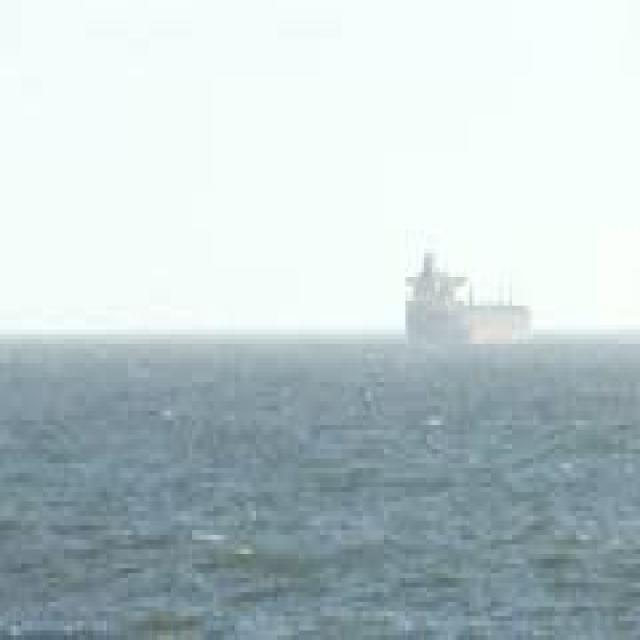cargoship: (406, 252, 528, 349)
